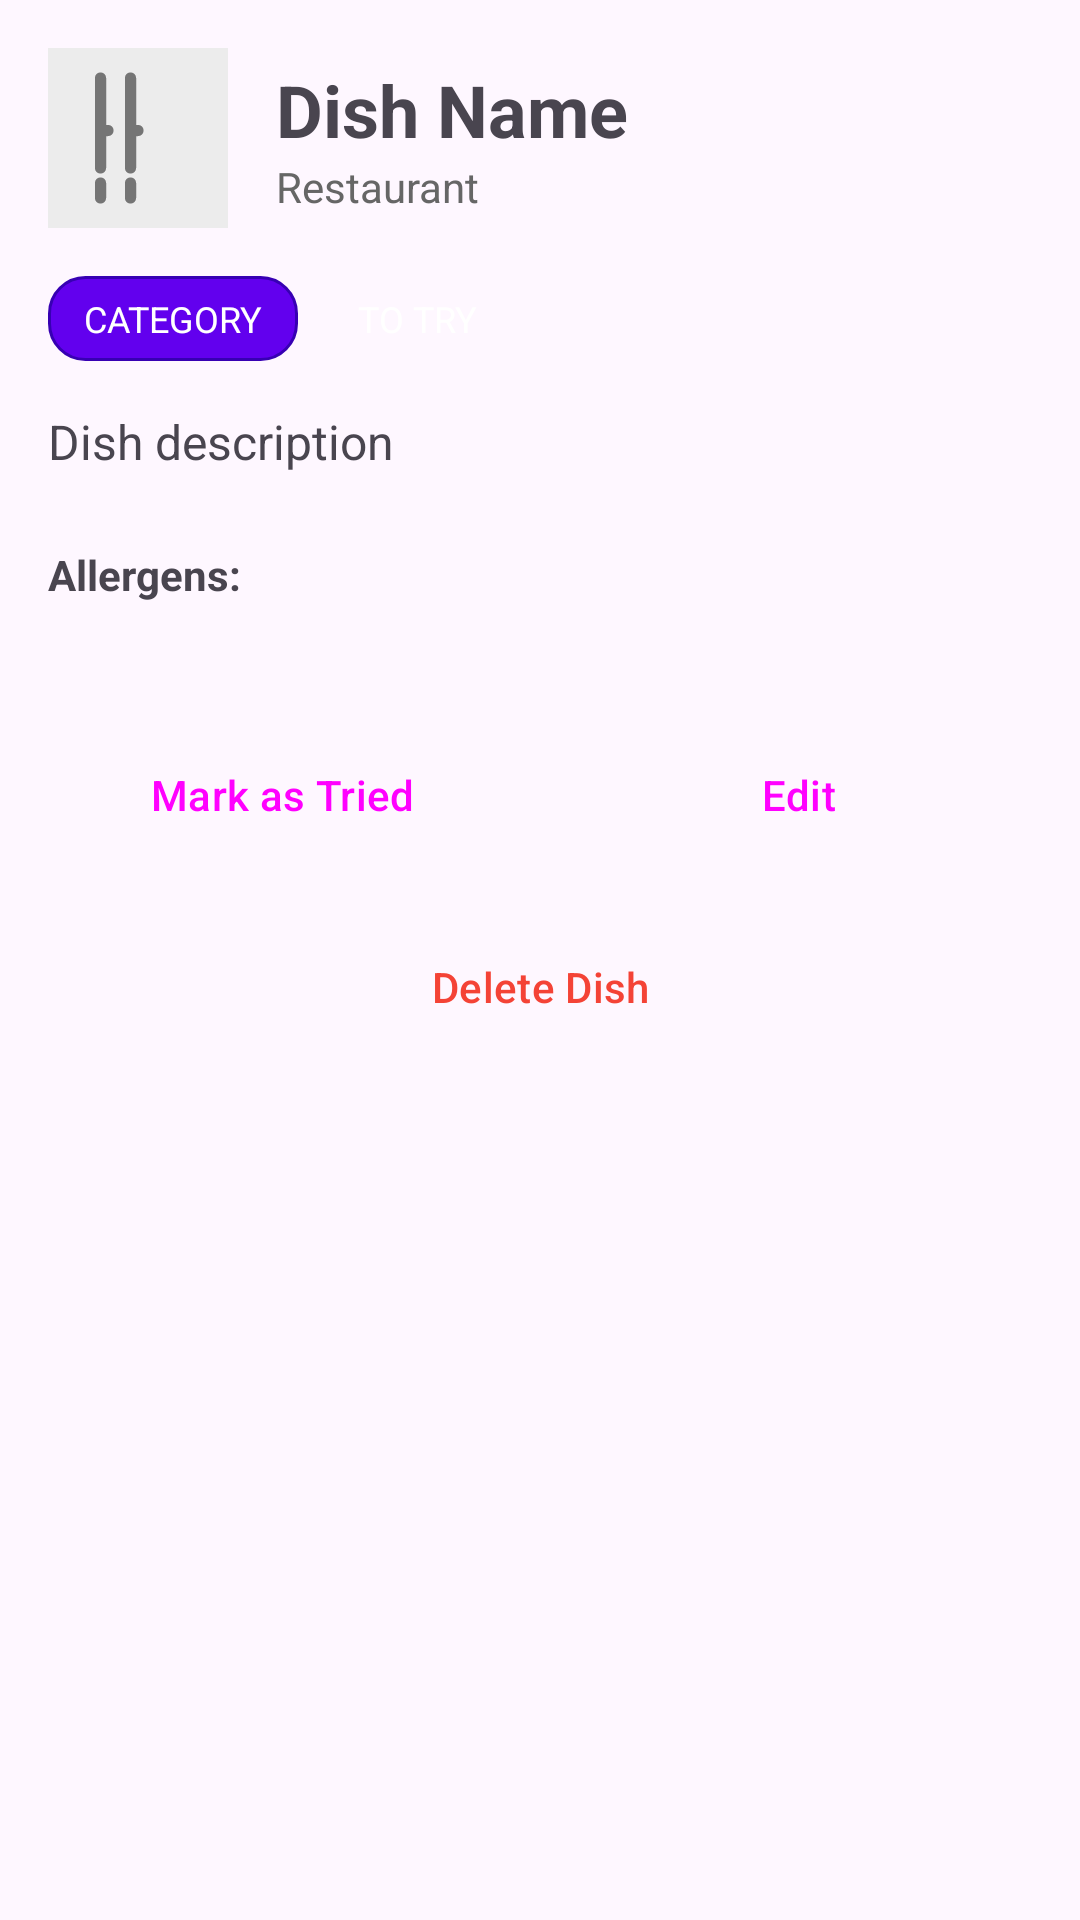

Icons on this 1080 x 1920 Android screen, each with its box as {"x1": x1, "y1": y1, "x2": x2, "y2": y2}:
food: {"x1": 48, "y1": 48, "x2": 228, "y2": 228}
